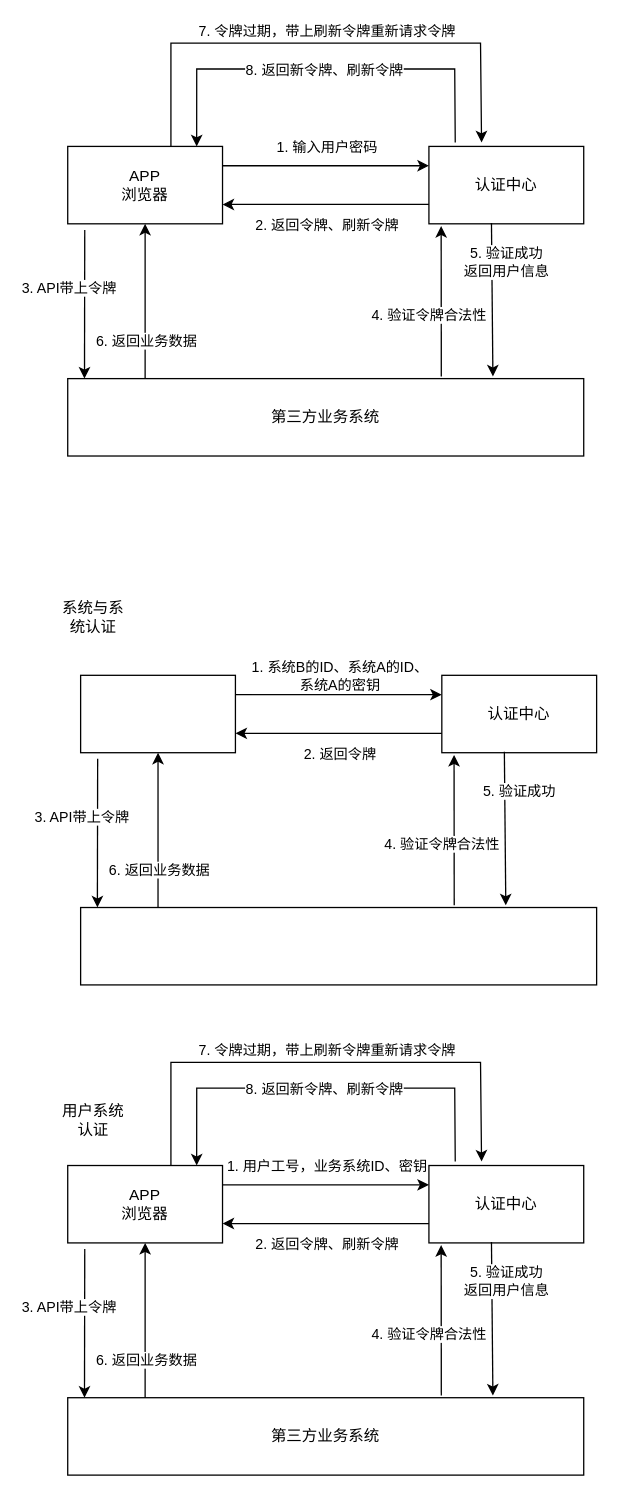
This 620x1498 diagram has some shape labels left out. The shapes that lost their labels are listed below. From the top down, each one's box as (x1, y1, x2, y2) in pixels, then its label:
(79, 674, 235, 753): 第三方业务系统 A
(79, 906, 597, 985): 第三方业务系统 B
